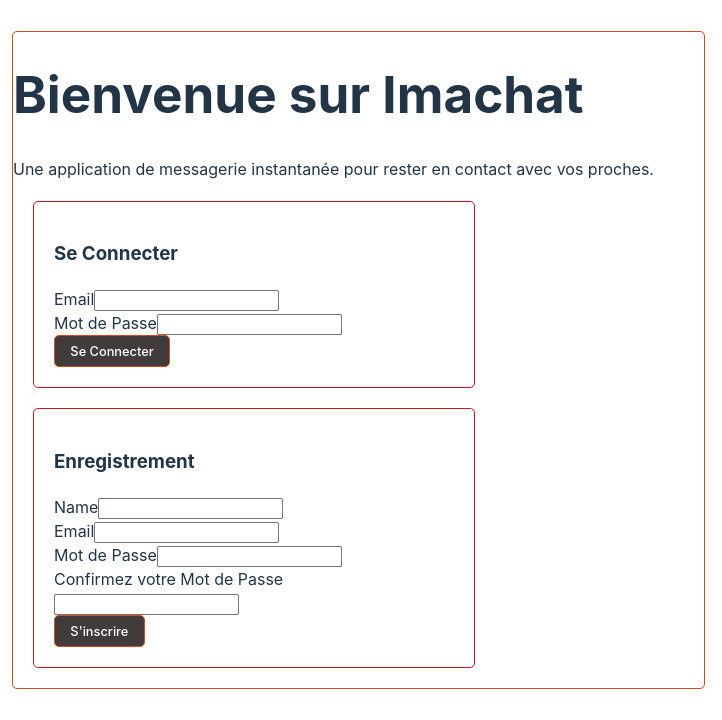
Register Component › should show error message for invalid password
In the field with id "name": (191,509) [98,498,283,519], type "test"
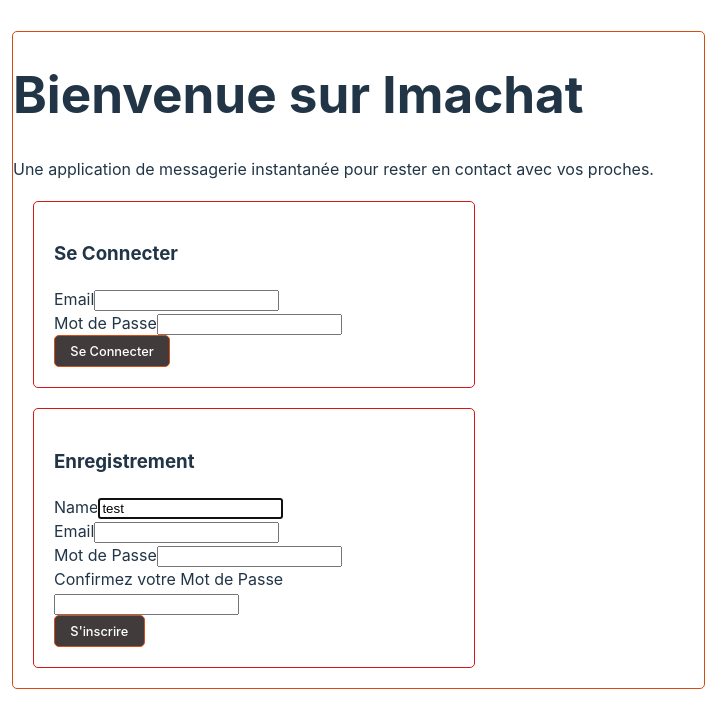
In the field with id "email": (187,533) [94,522,279,543], type "Sebastien.Viardot@grenoble-inp.fr"
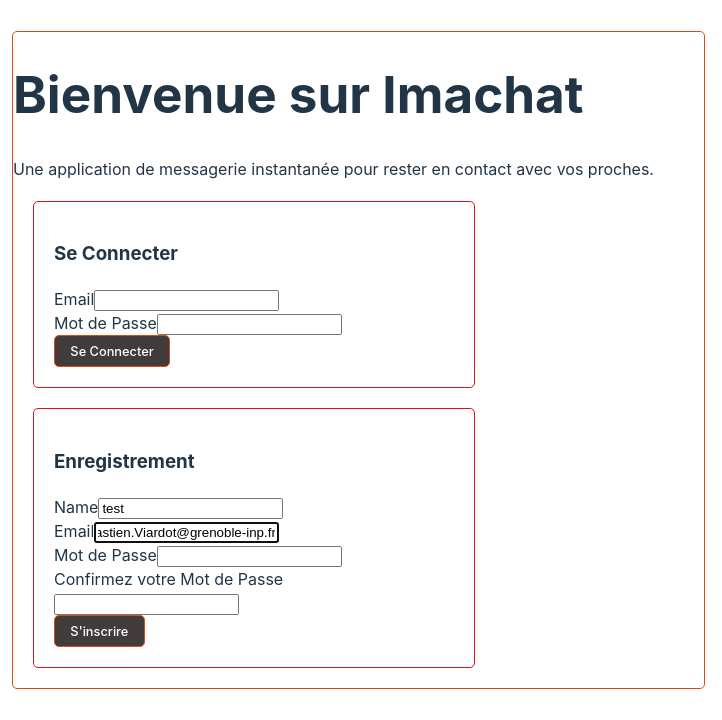
In the 2nd password field: (250,557) [157,546,342,567], type "invalid"
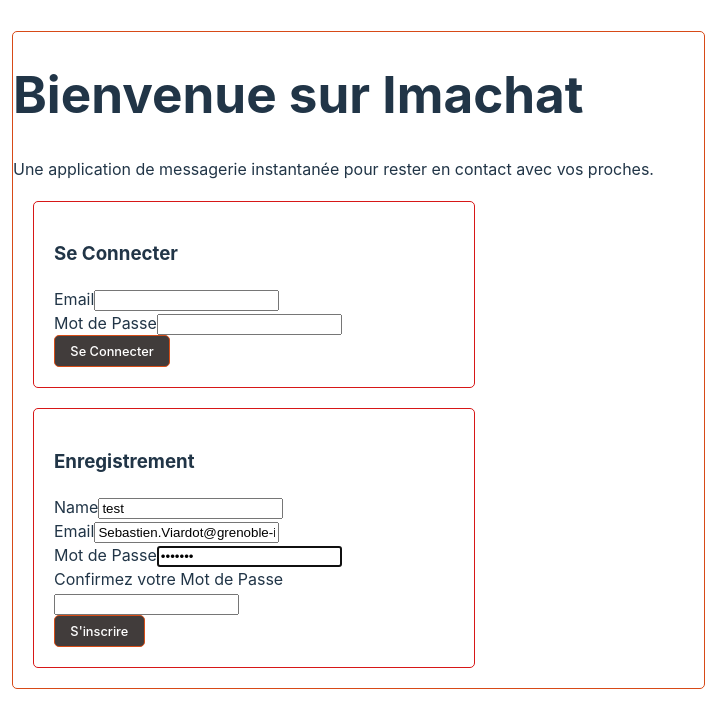
In the password field with id "confirm-password": (147,605) [54,594,239,615], type "invalid"
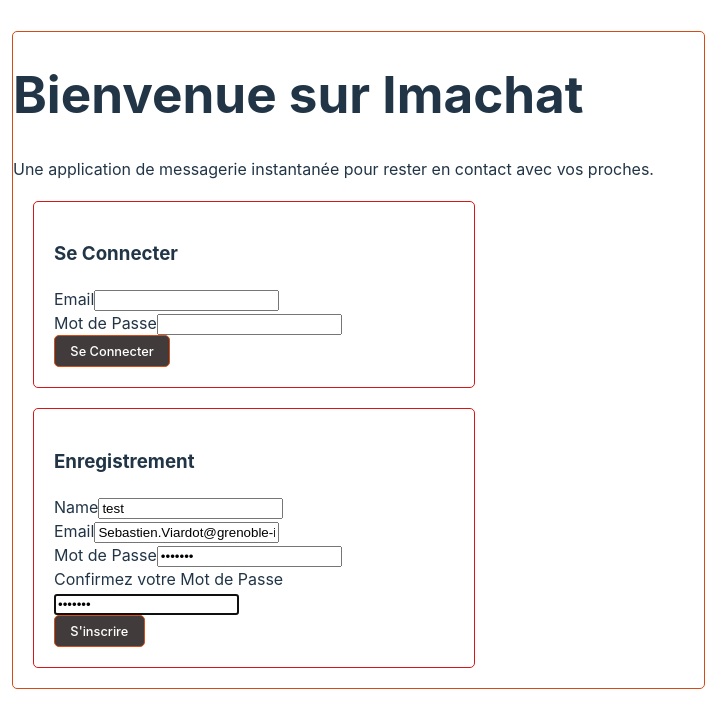
Click the button with class "register-button": (100,631) [54,615,145,647]
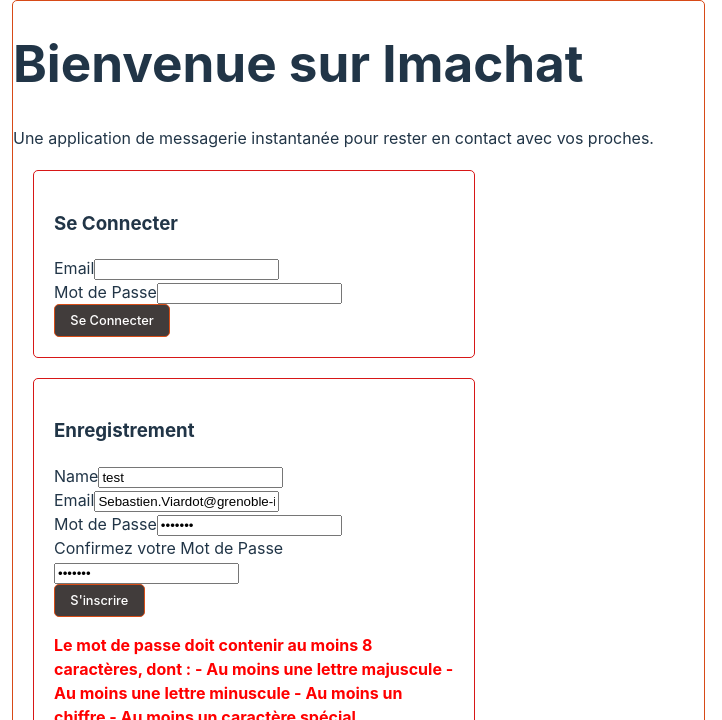
Expected: the text with class "error-message" shows "Le mot de passe doit contenir au moins 8 caractères", [54,635,453,719]
